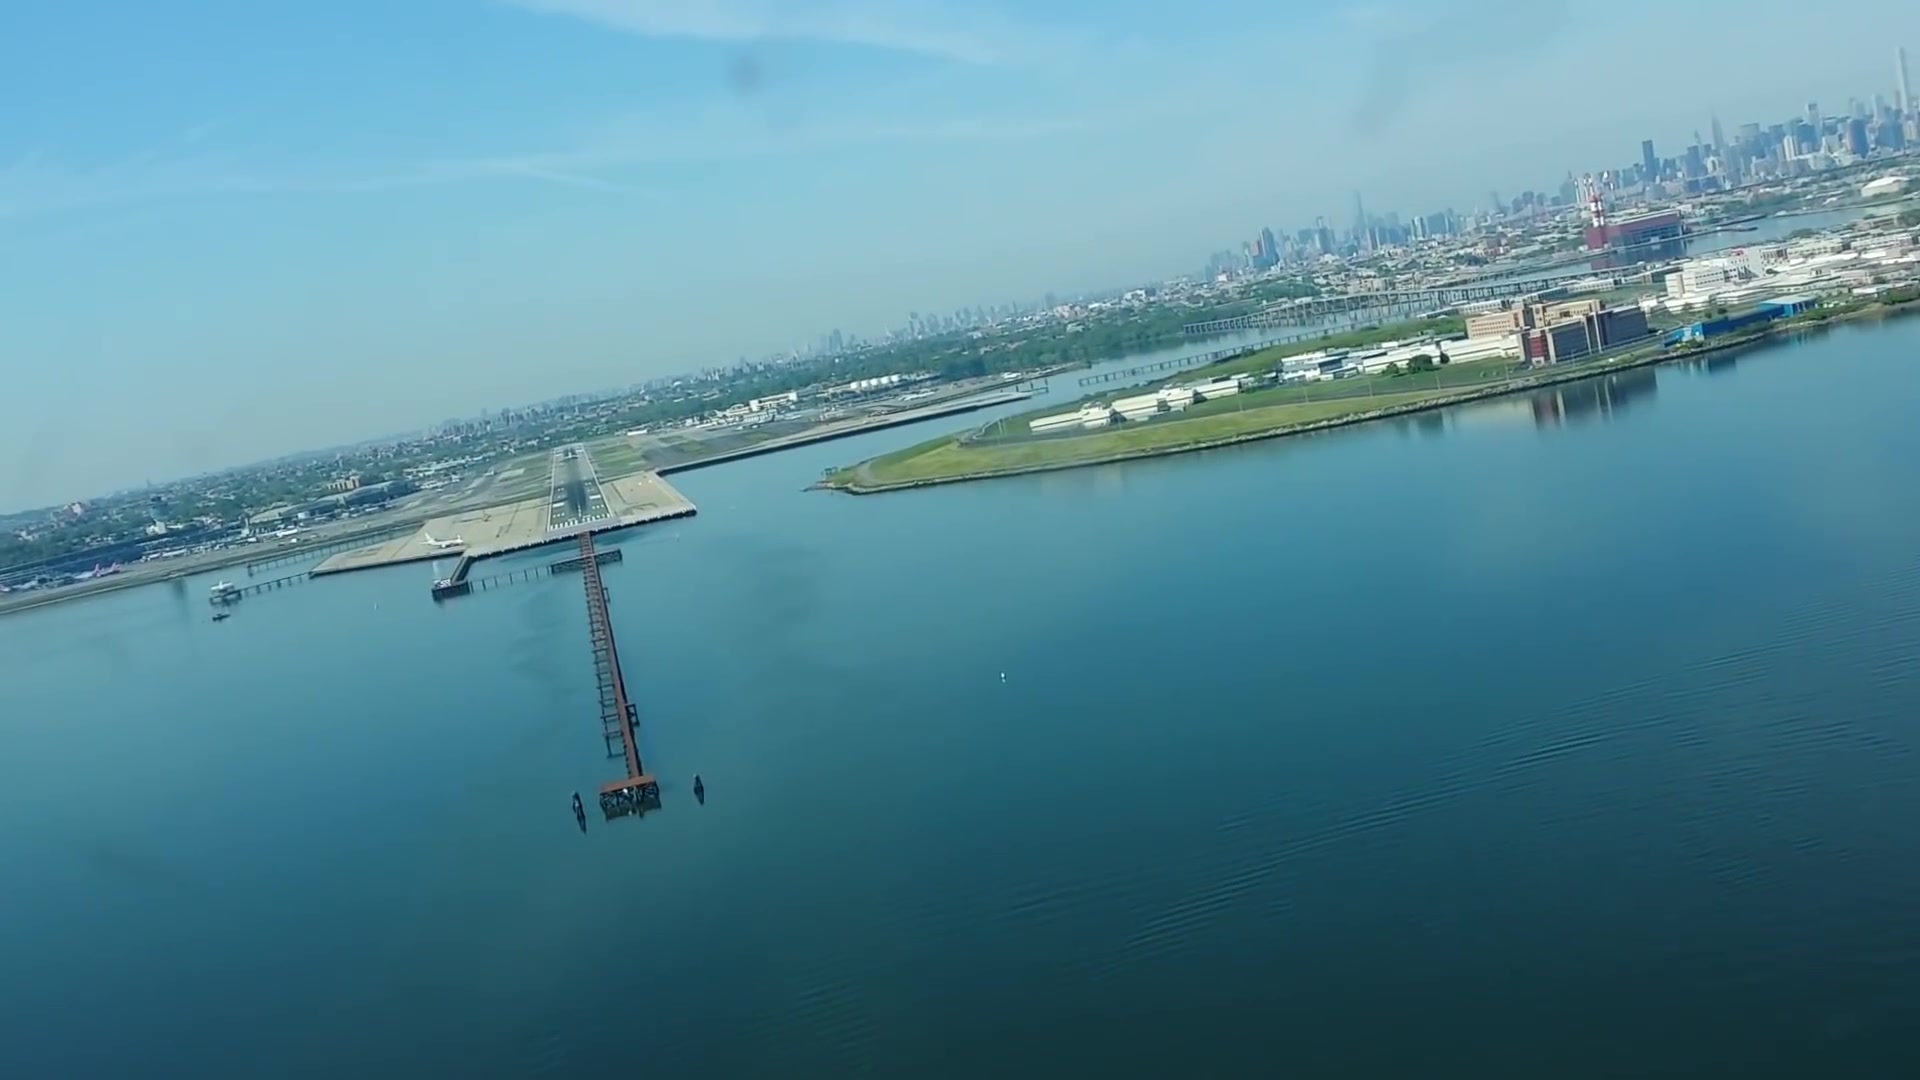runway: (543, 440, 612, 535)
